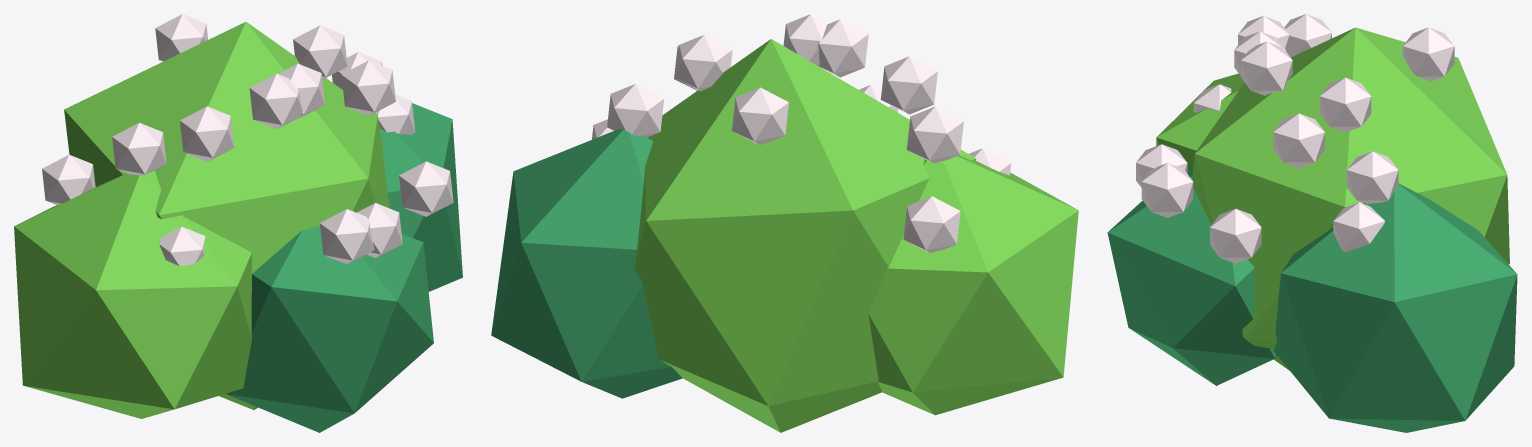
The model's file is bush_white.glb.
3 views of the same model, side by side, from view 1: azimuth 30°, elevation 25°; view 2: azimuth 150°, elevation 25°; view 3: azimuth 270°, elevation 25° (orthographic). The views are drawn at different scales.
Visible parts, largest first — view 1: bush_white; view 2: bush_white; view 3: bush_white.
Part boxes in pixels (bbox=[...]): bush_white: bbox=[14, 14, 462, 432]; bush_white: bbox=[491, 14, 1078, 432]; bush_white: bbox=[1107, 14, 1517, 432].
Bounding box in the file's own units: 1.97 × 1.51 × 1.48.
